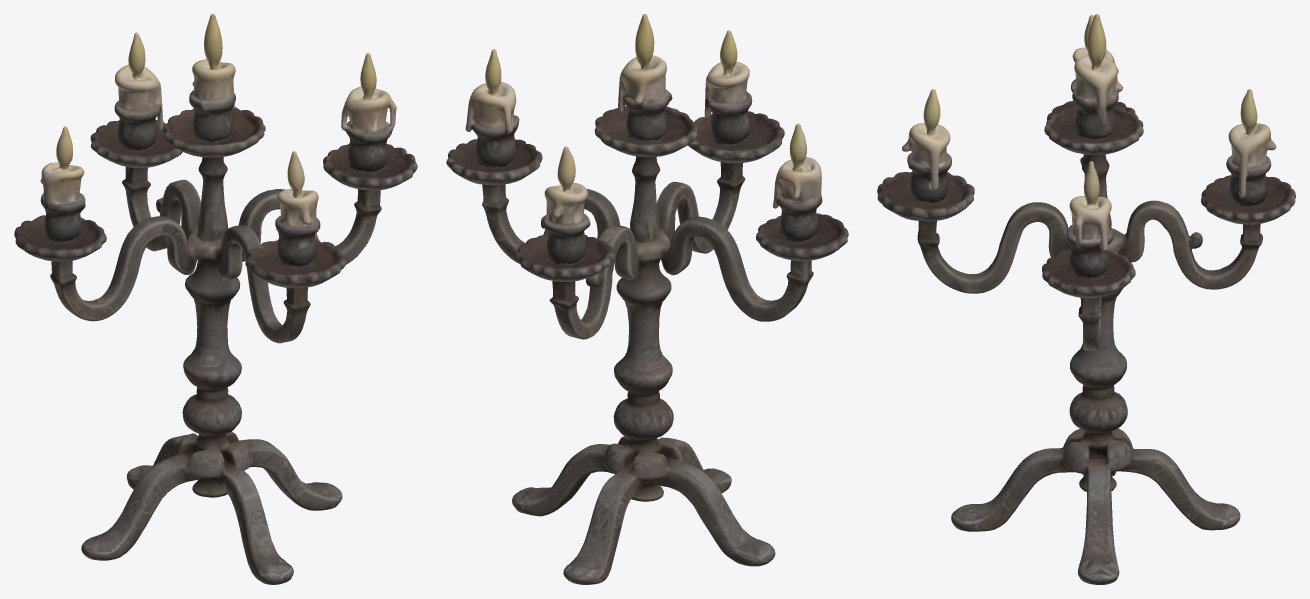
The model's file is 立式蜡烛灯.glb.
3 views of the same model, side by side, from view 1: azimuth 30°, elevation 25°; view 2: azimuth 150°, elevation 25°; view 3: azimuth 270°, elevation 25° (orthographic).
Parts seen in each view (by area): view 1: tripo_node_3f772143-5f69-4cfe-961a-0f7a9bf1fef9; view 2: tripo_node_3f772143-5f69-4cfe-961a-0f7a9bf1fef9; view 3: tripo_node_3f772143-5f69-4cfe-961a-0f7a9bf1fef9.
Part boxes in pixels (bbox=[...]): tripo_node_3f772143-5f69-4cfe-961a-0f7a9bf1fef9: bbox=[14, 14, 417, 584]; tripo_node_3f772143-5f69-4cfe-961a-0f7a9bf1fef9: bbox=[446, 14, 848, 584]; tripo_node_3f772143-5f69-4cfe-961a-0f7a9bf1fef9: bbox=[877, 14, 1295, 584].
Bounding box in the file's own units: 0.7858 × 0.9998 × 0.7415.
Materials: 1 (1 with a texture image).
